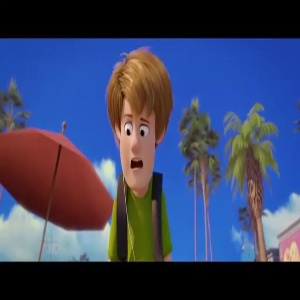Shagy: (102, 43, 172, 193)
